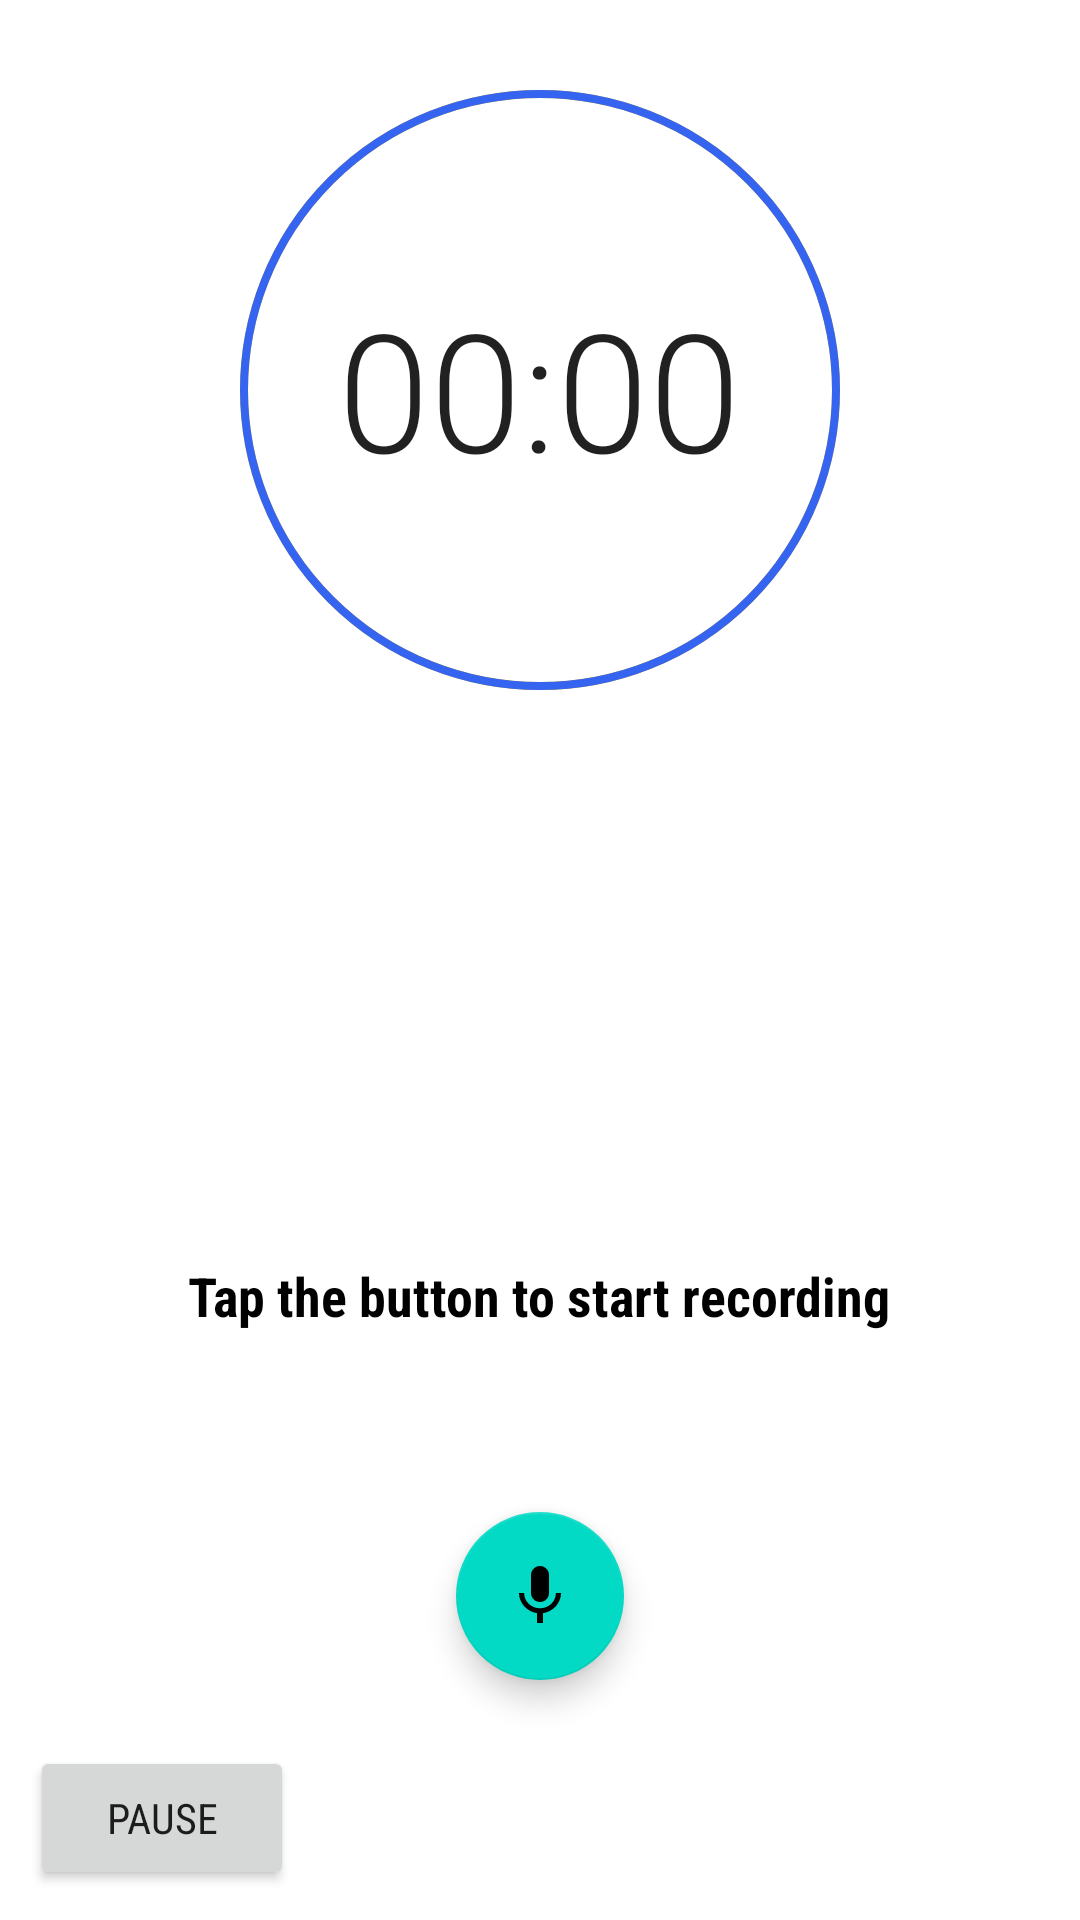

Point at icon controls on the screen. Image size 1080×1920, points as (x=x, y=y).
Record: (x=540, y=1596)
